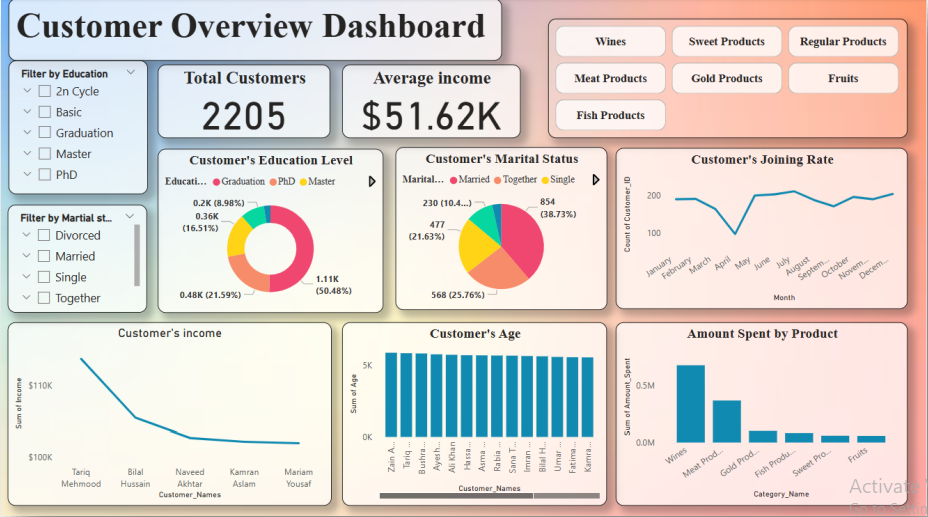

What the dashboard file says about the page in this screenshot:
{"tool":"powerbi","page":{"name":"customer_overview","canvas":[1280,720],"ordinal":2},"visuals":[{"type":"clusteredColumnChart","title":"Amount Spent by Product","fields":{"Y":["Sum(Spending_Behaviour.Amount_Spent)"],"Category":["Categories_Lookup.Category_Name"]},"box":[850.5,448.1,404.3,253],"z":0},{"type":"textbox","box":[10,0,683.2,85.6],"z":1000},{"type":"lineChart","title":"Customer''s Joining Rate","fields":{"Category":["Customers_Info.Customer_Join_Date.Variation.Date Hierarchy.Month1"],"Y":["CountNonNull(Customers_Info.Customer_ID)"]},"box":[850.5,207.1,404.3,223.1],"z":2000},{"type":"donutChart","title":"Customer''s Education Level ","fields":{"Category":["Customers_Info.Education_Level"],"Y":["CountNonNull(Customers_Info.Customer_ID)"]},"box":[217.3,207.9,311.8,226.8],"z":3000},{"type":"lineChart","title":"Customer''s income ","fields":{"Y":["Sum(Customers_Info.Income)"],"Category":["Customers_Info.Customer_Names"]},"box":[9.4,447.9,447.9,253.2],"z":4000},{"type":"lineClusteredColumnComboChart","title":"Customer''s Age","fields":{"Y":["Sum(Customers_Info.Age)"],"Category":["Customers_Info.Customer_Names"]},"box":[472.4,447.9,366.6,253.2],"z":5000},{"type":"pieChart","title":"Customer''s Marital Status","fields":{"Category":["Customers_Info.Marital_Status"],"Y":["CountNonNull(Customers_Info.Customer_ID)"]},"box":[545.7,205.1,292.8,225.1],"z":6000},{"type":"card","title":"Total Customers","fields":{"Values":["CountNonNull(Customers_Info.Customer_ID)"]},"box":[217.1,91.6,239,101.6],"z":7000},{"type":"slicer","fields":{"Values":["Customers_Info.Education_Level","Customers_Info.Customer_ID"]},"box":[10,85.6,193.2,185.2],"z":8000},{"type":"slicer","fields":{"Values":["Customers_Info.Marital_Status","Customers_Info.Customer_ID"]},"box":[9.4,285.4,192.8,149.3],"z":9000},{"type":"advancedSlicerVisual","fields":{"Values":["Categories_Lookup.Category_Name"]},"box":[756.9,27.9,497.9,165.3],"z":10000},{"type":"card","title":"Average income","fields":{"Values":["Avg(Customers_Info.Income)"]},"box":[472,91.6,247,101.6],"z":11000}]}

Visuals, with their boxes in screenshot pixels (x1, y1, x2, y2), scaled from the page's 1280x720 canvas onto the 928x517 screenshot:
"Amount Spent by Product" clusteredColumnChart: crop(617, 322, 910, 503)
textbox: crop(7, 0, 503, 61)
"Customer''s Joining Rate" lineChart: crop(617, 149, 910, 309)
"Customer''s Education Level " donutChart: crop(158, 149, 384, 312)
"Customer''s income " lineChart: crop(7, 322, 332, 503)
"Customer''s Age" lineClusteredColumnComboChart: crop(342, 322, 608, 503)
"Customer''s Marital Status" pieChart: crop(396, 147, 608, 309)
"Total Customers" card: crop(157, 66, 331, 139)
slicer - Customers_Info.Education_Level x Customers_Info.Customer_ID: crop(7, 61, 147, 194)
slicer - Customers_Info.Marital_Status x Customers_Info.Customer_ID: crop(7, 205, 147, 312)
advancedSlicerVisual - Categories_Lookup.Category_Name: crop(549, 20, 910, 139)
"Average income" card: crop(342, 66, 521, 139)
